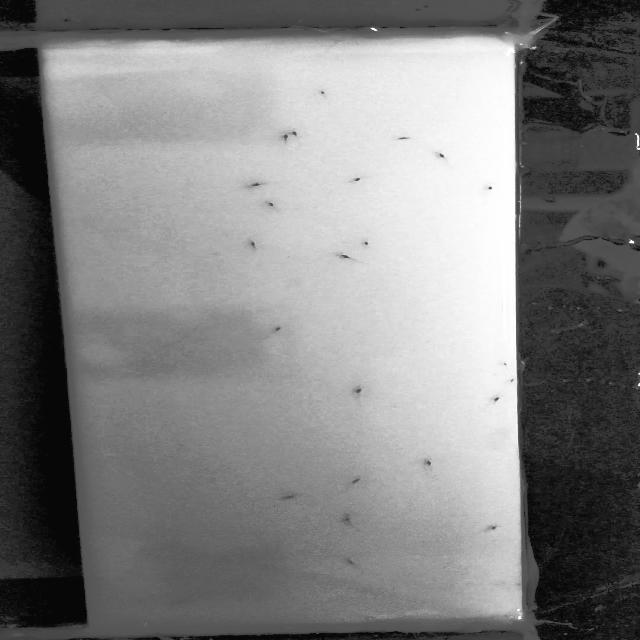shrimp: (254, 198, 290, 211), (336, 514, 368, 526), (312, 88, 336, 103), (240, 180, 274, 190), (387, 134, 417, 145), (264, 322, 286, 337), (167, 594, 194, 606), (479, 520, 502, 534), (346, 475, 368, 489), (346, 553, 363, 571), (478, 181, 498, 196), (430, 151, 456, 161), (333, 253, 359, 262), (351, 385, 370, 397), (280, 494, 308, 502), (344, 178, 371, 186), (489, 360, 508, 371), (355, 239, 378, 248), (490, 394, 504, 407), (245, 239, 260, 251), (422, 458, 441, 467), (288, 130, 302, 142), (277, 133, 291, 143), (508, 378, 516, 386)
